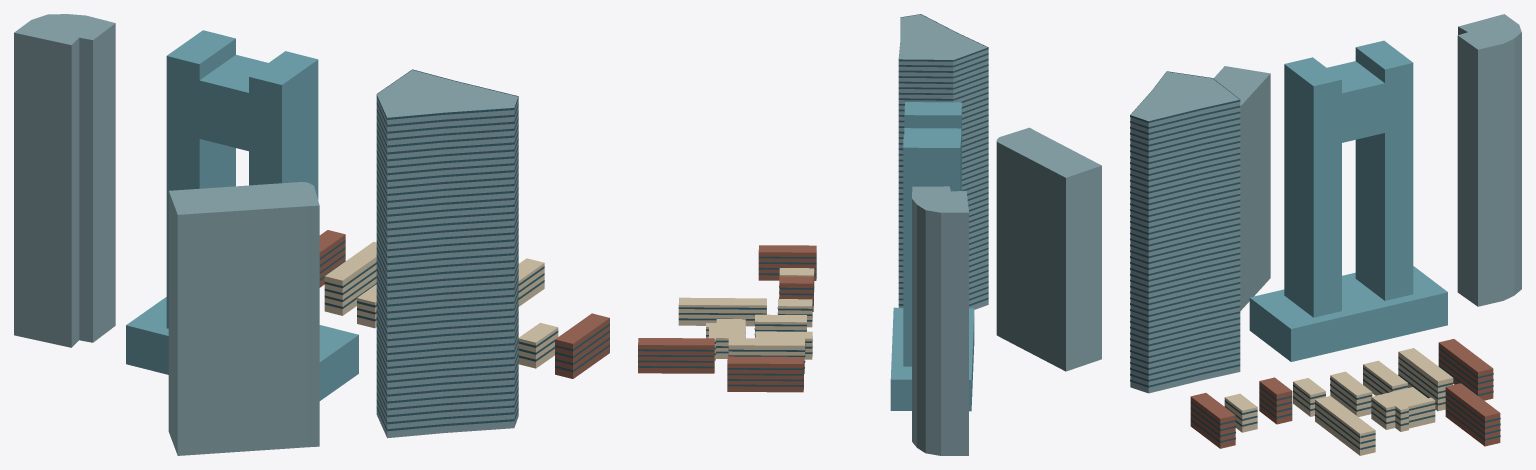
File: city_6_-1.glb
3 views of the same model, side by side, from view 1: azimuth 30°, elevation 25°; view 2: azimuth 150°, elevation 25°; view 3: azimuth 270°, elevation 25° (orthographic). The views are drawn at different scales.
Parts seen in each view (by area): view 1: city_6_-1; view 2: city_6_-1; view 3: city_6_-1.
Part boxes in pixels (x1,y1,x2,y2): city_6_-1: [14, 14, 609, 455]; city_6_-1: [638, 14, 1101, 455]; city_6_-1: [1130, 14, 1521, 455].
Size of the model in its own units: 270 by 185 by 242.
